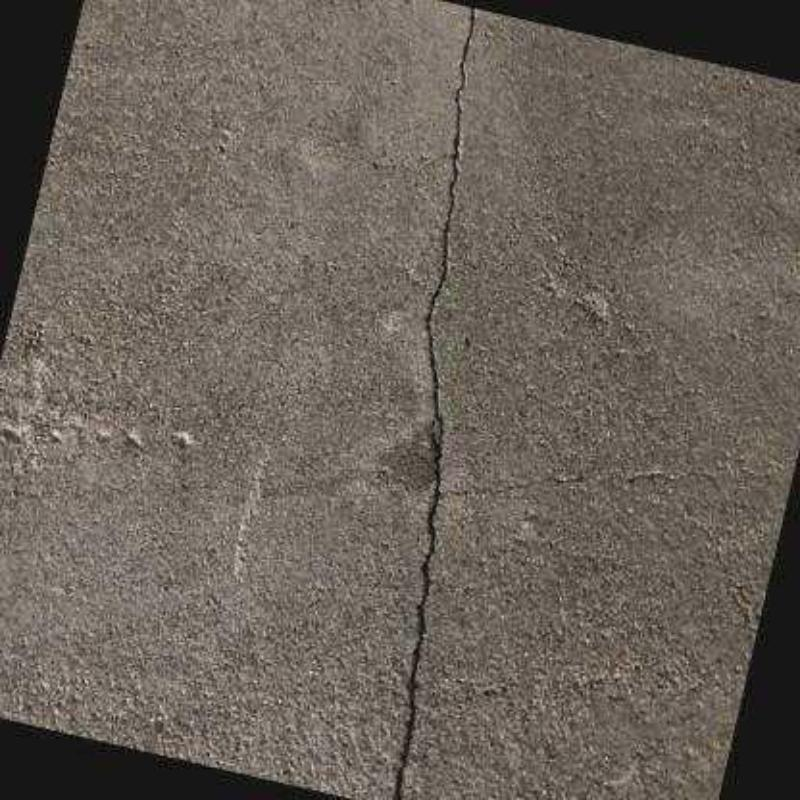pothole: (394, 8, 475, 798)
